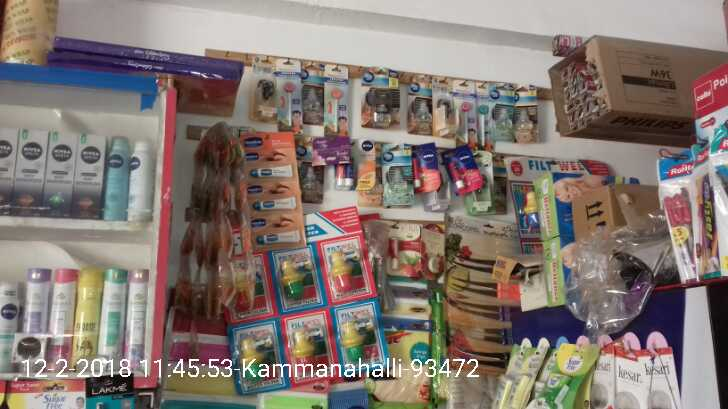ambipure: (355, 70, 401, 128), (379, 149, 415, 208), (406, 79, 431, 128)
